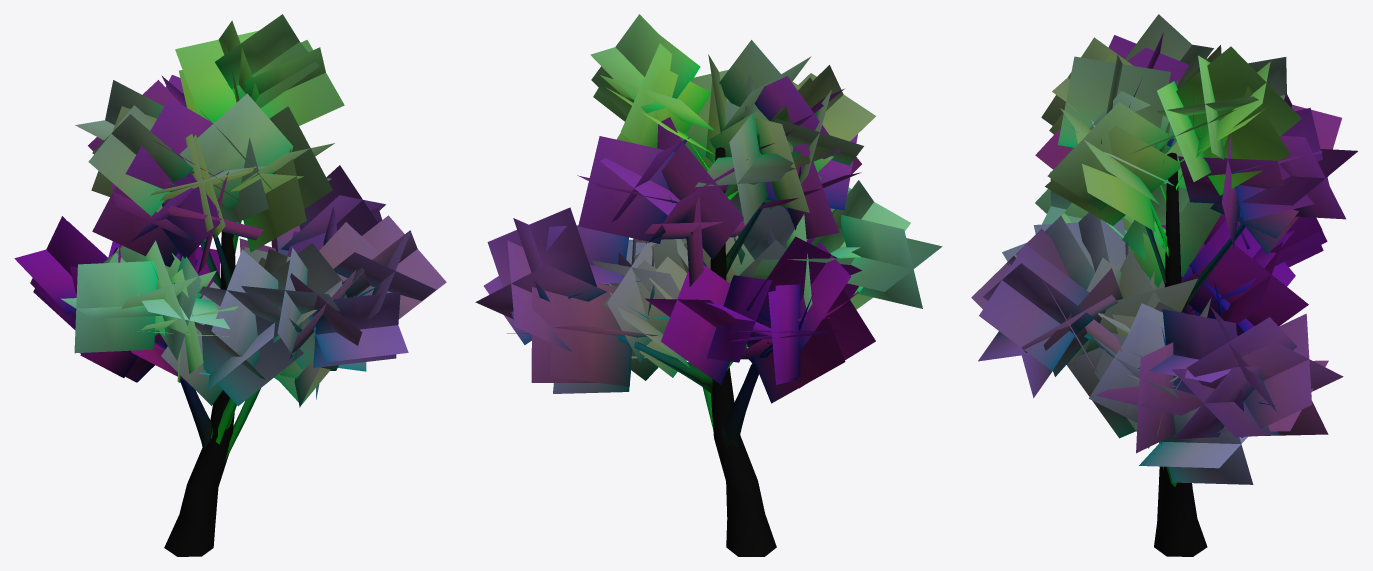
File: URP_P5_Tree_14_LOD_3.fbx
3 views of the same model, side by side, from view 1: azimuth 30°, elevation 25°; view 2: azimuth 150°, elevation 25°; view 3: azimuth 270°, elevation 25° (orthographic). The views are drawn at different scales.
Visible parts, largest first — view 1: Tree_14_LOD_3; view 2: Tree_14_LOD_3; view 3: Tree_14_LOD_3.
Part boxes in pixels (x1,y1,x2,y2): Tree_14_LOD_3: (14, 14, 446, 556); Tree_14_LOD_3: (475, 14, 942, 556); Tree_14_LOD_3: (971, 14, 1357, 556).
Size of the model in its own units: 396 by 502 by 324.
